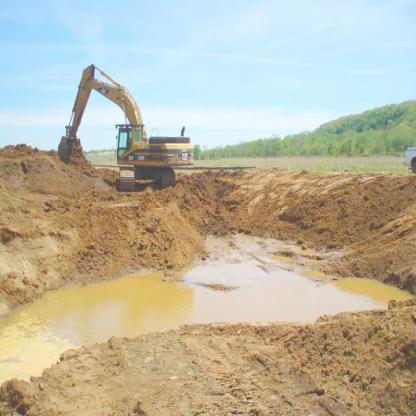excavator: (54, 59, 199, 190)
